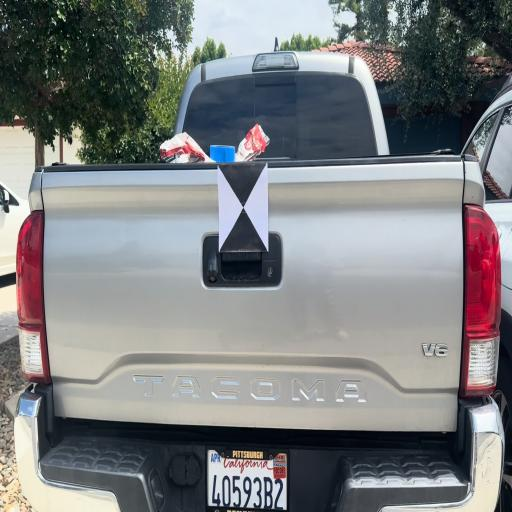target: (217, 164, 269, 250)
